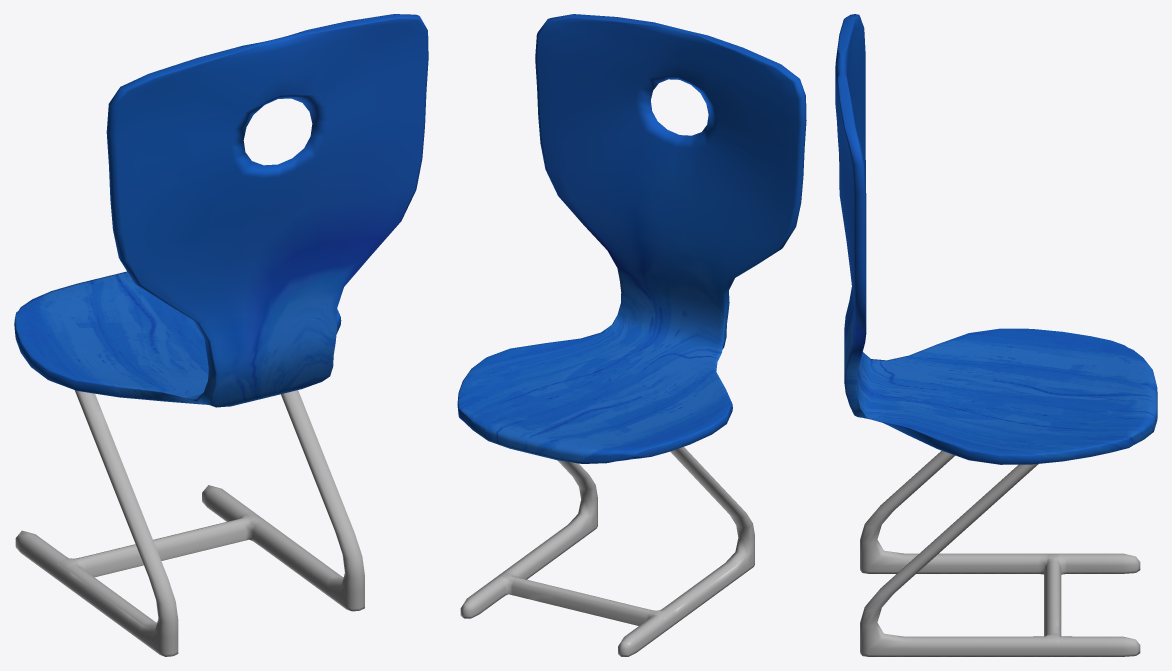
File: chair.fbx
3 views of the same model, side by side, from view 1: azimuth 30°, elevation 25°; view 2: azimuth 150°, elevation 25°; view 3: azimuth 270°, elevation 25° (orthographic). The views are drawn at different scales.
Parts seen in each view (by area): view 1: pCylinder4; view 2: pCylinder4; view 3: pCylinder4.
Part boxes in pixels (<box>): pCylinder4: <box>14,14,428,656</box>; pCylinder4: <box>457,14,806,656</box>; pCylinder4: <box>835,14,1157,656</box>.
Size of the model in its own units: 6.92 by 12.47 by 6.62.
Materials: 1 (1 with a texture image).
